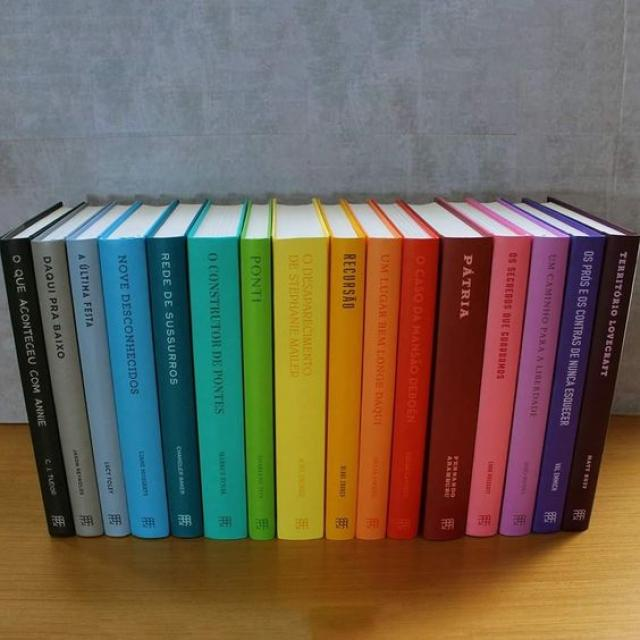book: (563, 234, 640, 531), (0, 239, 74, 537), (499, 237, 570, 535), (32, 241, 103, 536), (535, 237, 606, 532), (99, 237, 169, 536), (426, 237, 494, 537), (65, 239, 131, 535), (467, 237, 532, 536), (189, 237, 248, 539), (146, 237, 203, 539), (272, 237, 326, 539), (386, 237, 439, 540), (355, 237, 403, 539), (326, 237, 365, 540), (242, 237, 275, 540)
